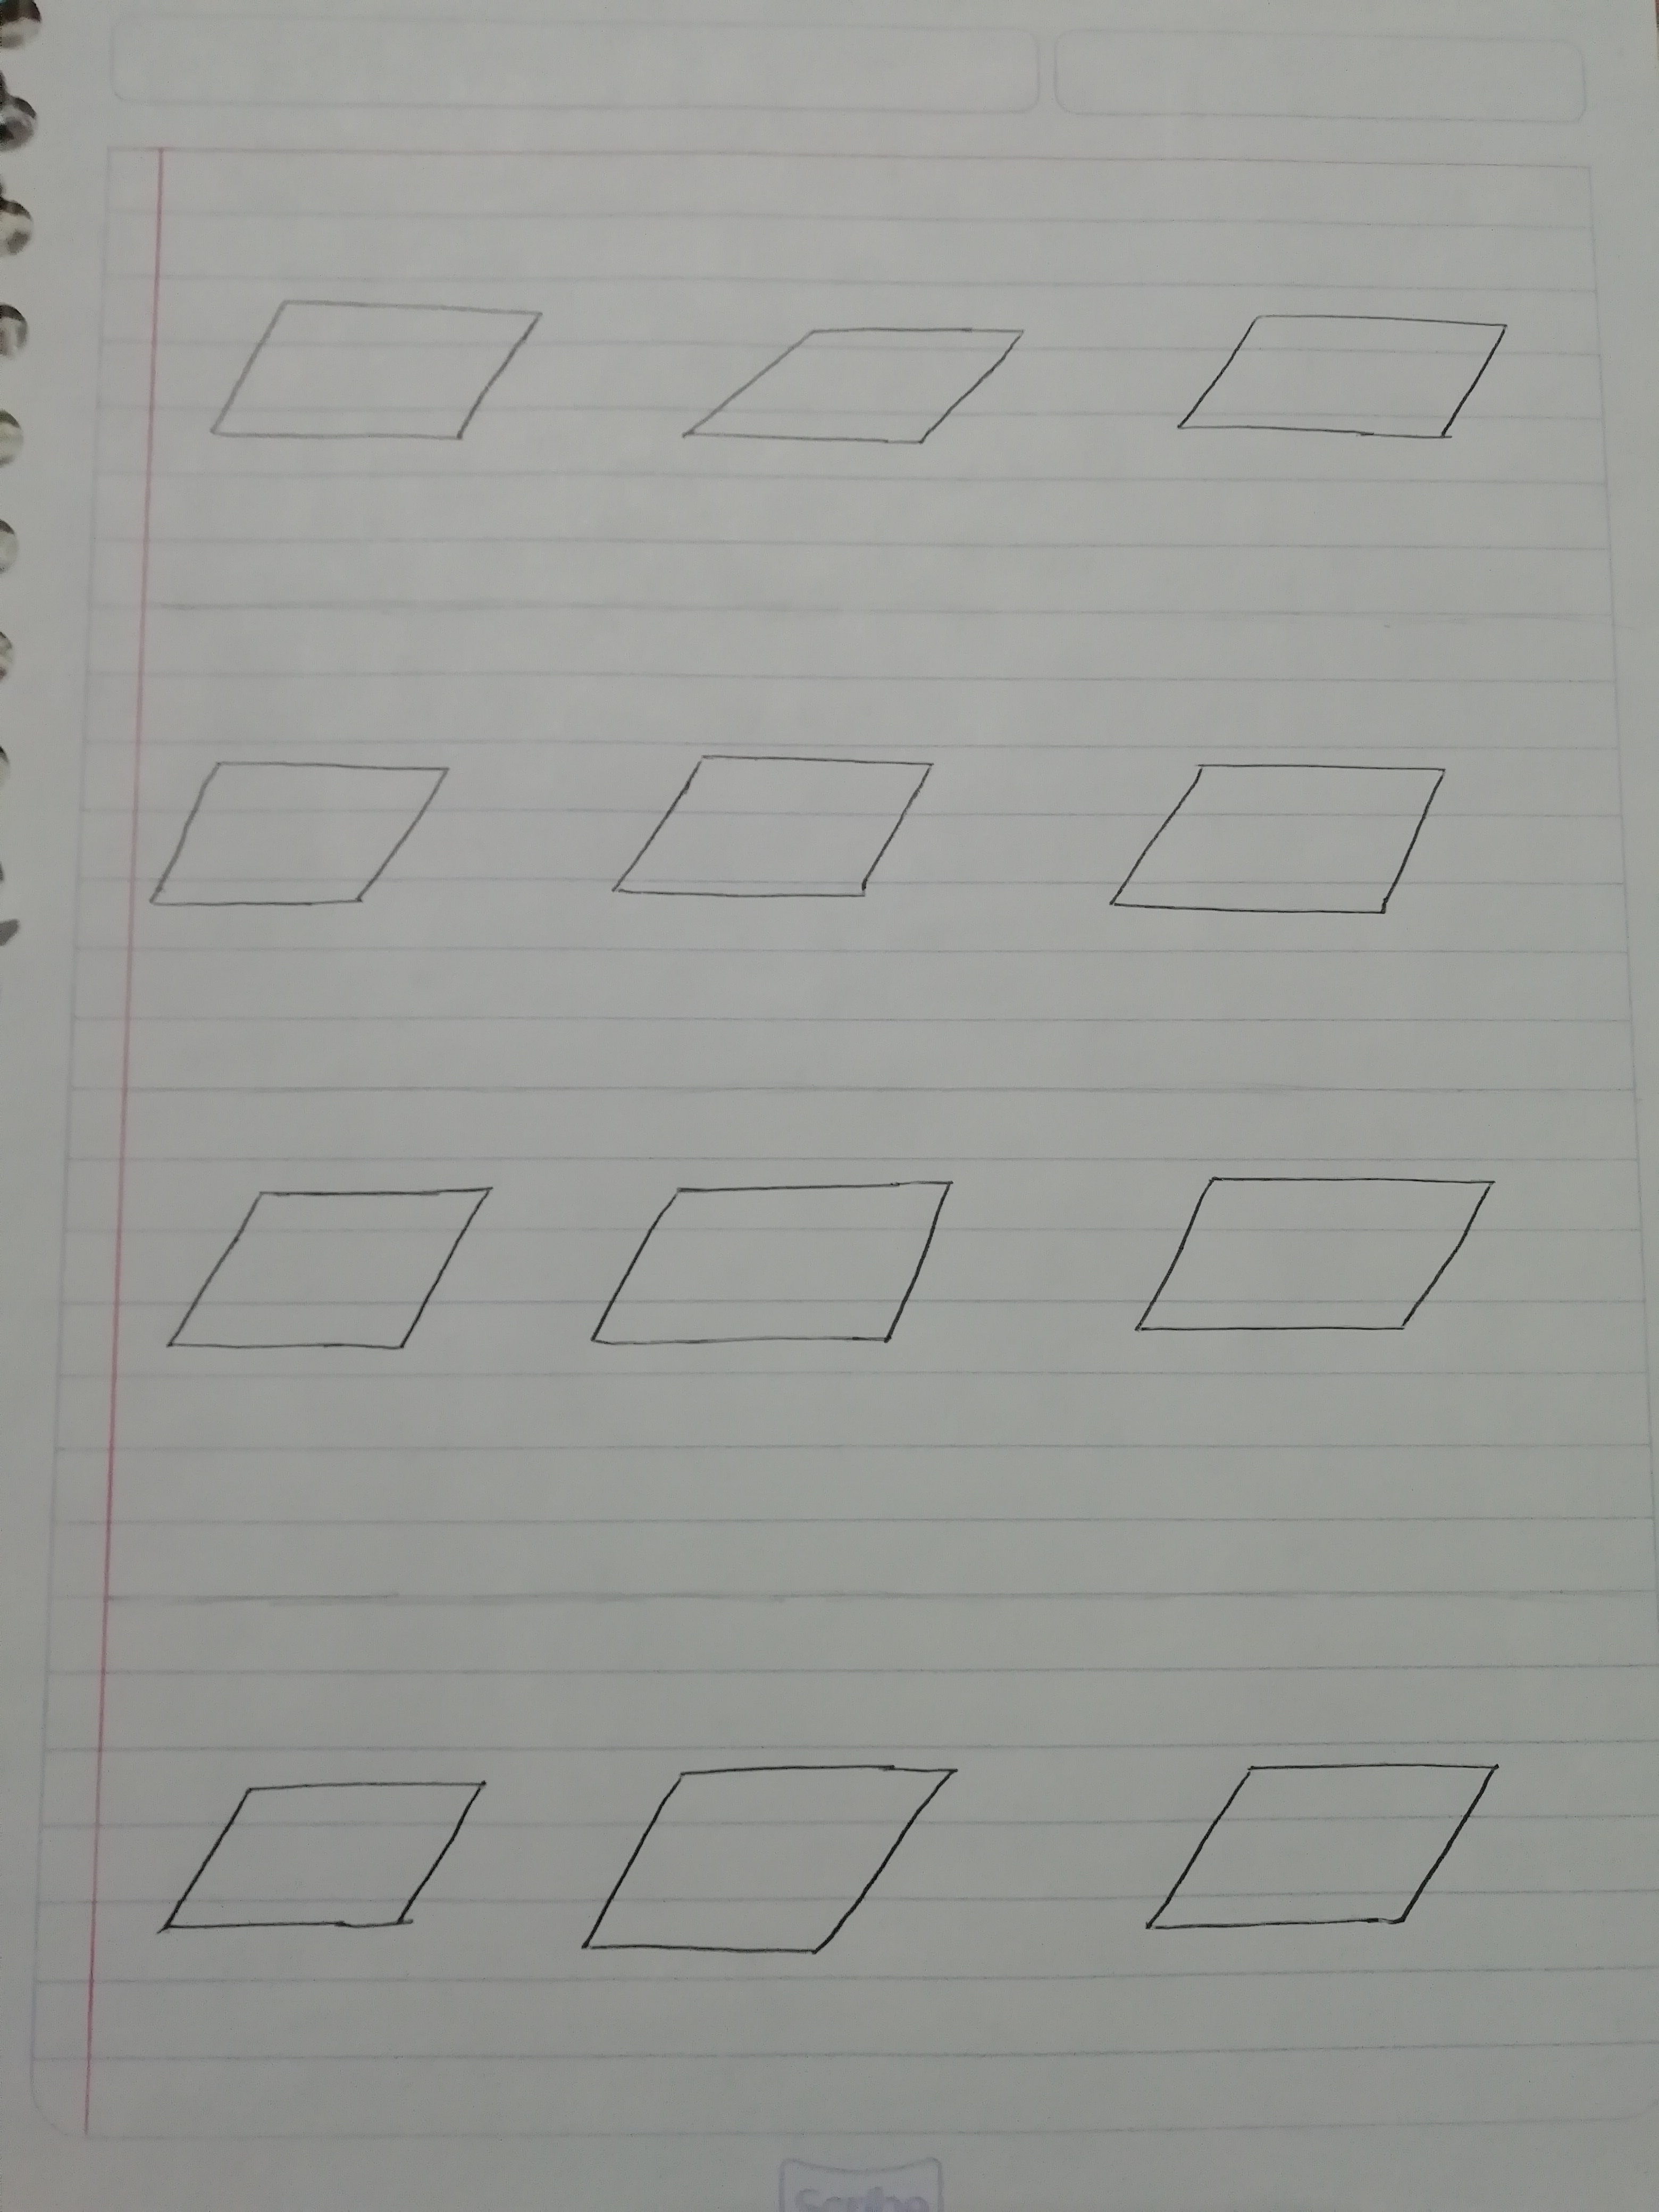scan: (1101, 1726, 1534, 2013), (565, 1737, 976, 2017), (139, 247, 587, 500), (572, 1155, 990, 1414), (1112, 1148, 1537, 1397), (98, 716, 491, 979), (640, 277, 1047, 528), (115, 1162, 505, 1407), (580, 712, 958, 958), (108, 1754, 523, 1975), (1086, 719, 1459, 960), (1161, 284, 1540, 514)
